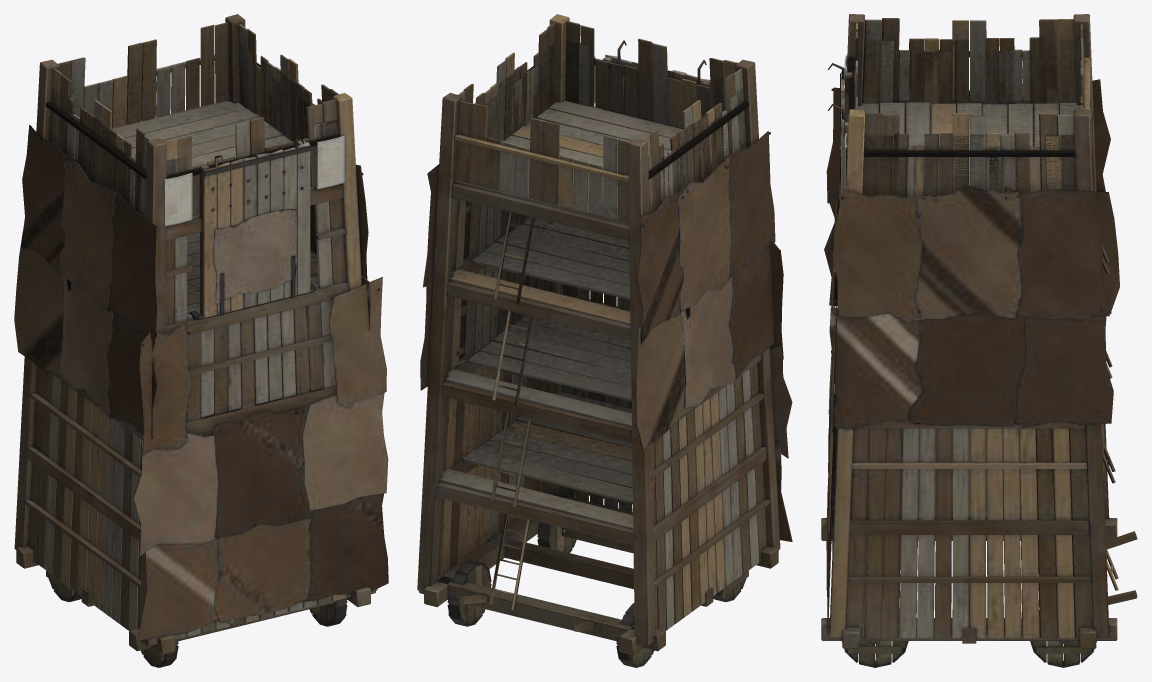
File: siege_tower.glb
3 views of the same model, side by side, from view 1: azimuth 30°, elevation 25°; view 2: azimuth 150°, elevation 25°; view 3: azimuth 270°, elevation 25° (orthographic). The views are drawn at different scales.
Parts seen in each view (by area): view 1: body_LOD0, bridge, wheel_fl; view 2: body_LOD0, wheel_rl, wheel_fl, bridge, wheel_rr; view 3: body_LOD0, wheel_rl, wheel_fl, bridge.
Boxes of the visible parts, x1,y1,x2,y2 form: body_LOD0: [14, 14, 388, 654]; bridge: [197, 135, 314, 320]; wheel_fl: [309, 598, 347, 626]; body_LOD0: [417, 14, 792, 654]; wheel_rl: [447, 560, 491, 626]; wheel_fl: [537, 494, 576, 552]; bridge: [602, 40, 710, 124]; wheel_rr: [616, 603, 654, 667]; body_LOD0: [821, 14, 1137, 648]; wheel_rl: [1030, 610, 1096, 667]; wheel_fl: [842, 615, 908, 667]; bridge: [828, 63, 852, 203].
Size of what is drawn, in the model's own units: 5.72 by 11.43 by 5.88.
Materials: 2 (2 with a texture image).
